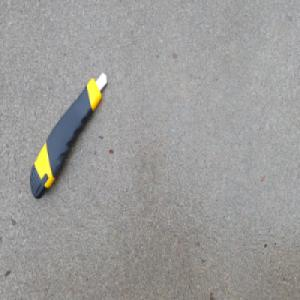Cutter: (28, 70, 107, 200)
